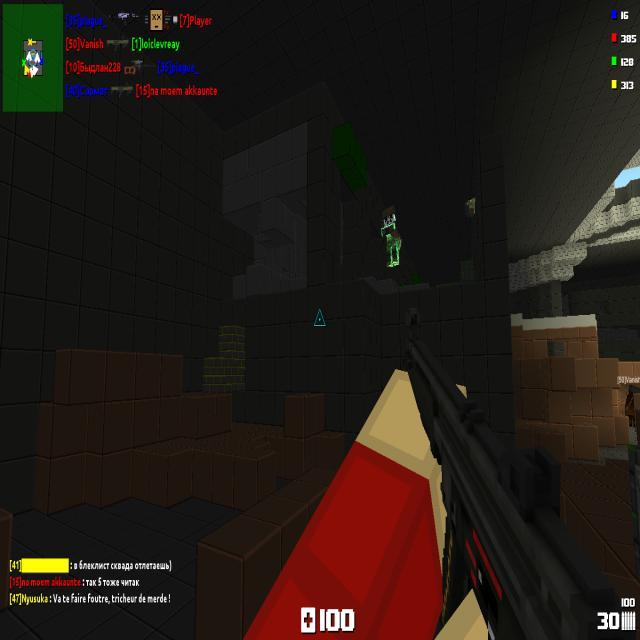enemy: (381, 204, 401, 269)
